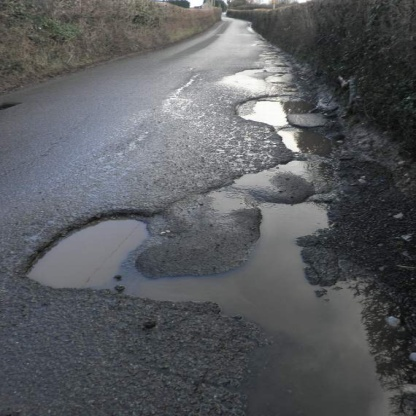pothole: (193, 176, 413, 416), (9, 194, 184, 316), (227, 87, 333, 135)
